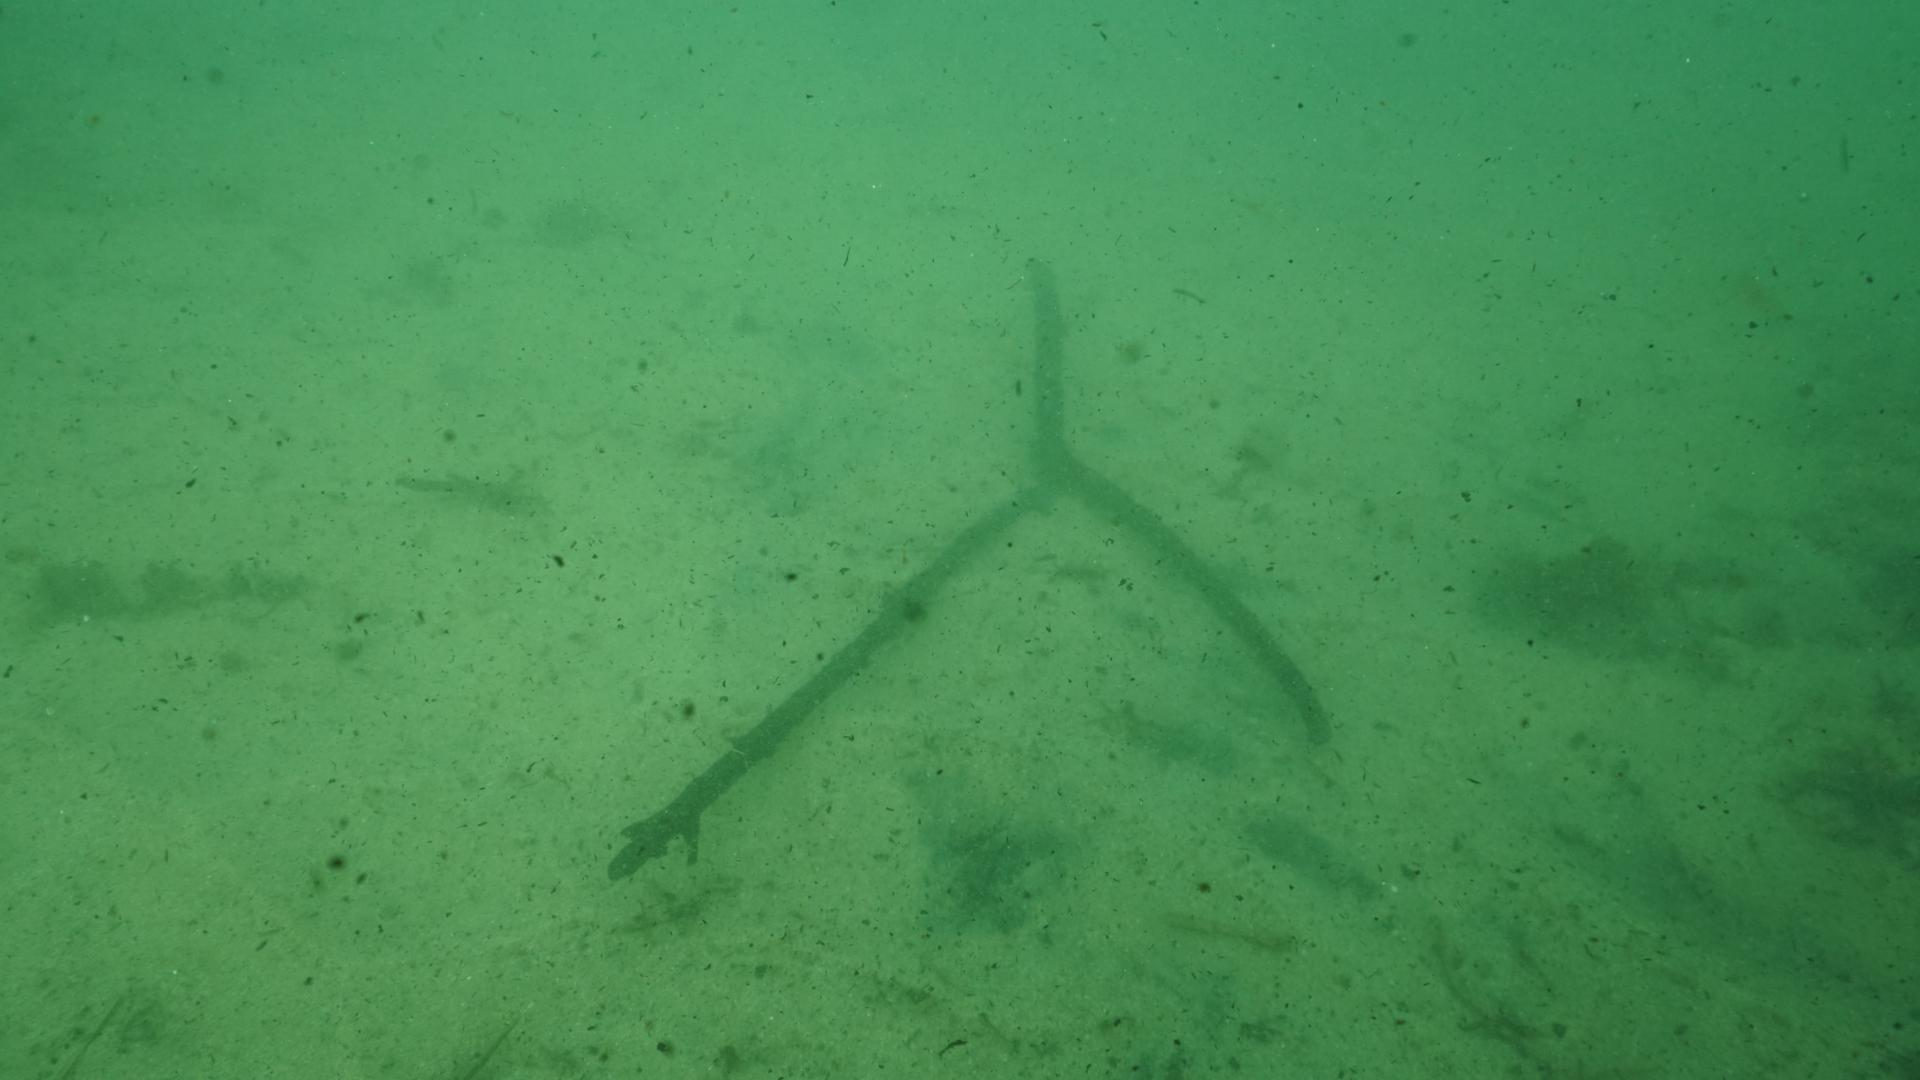wood: (603, 257, 1331, 880)
